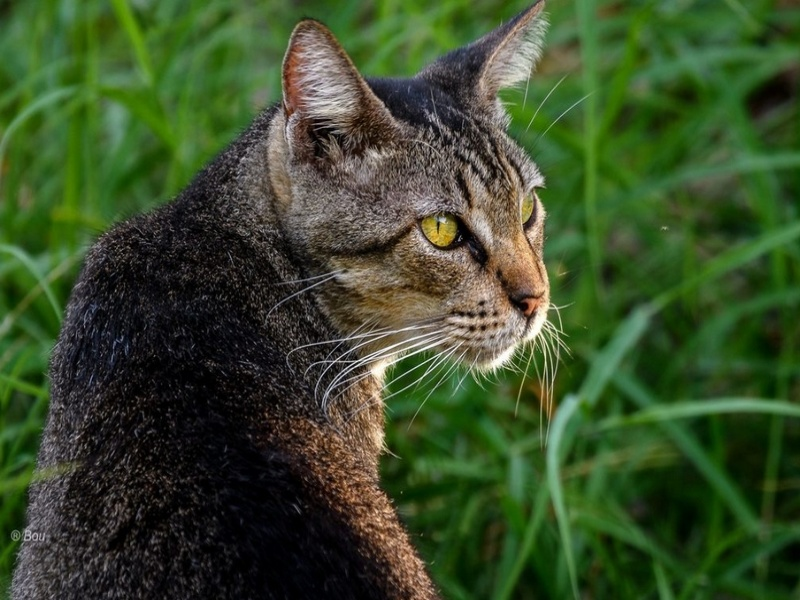cat: (18, 8, 567, 594)
